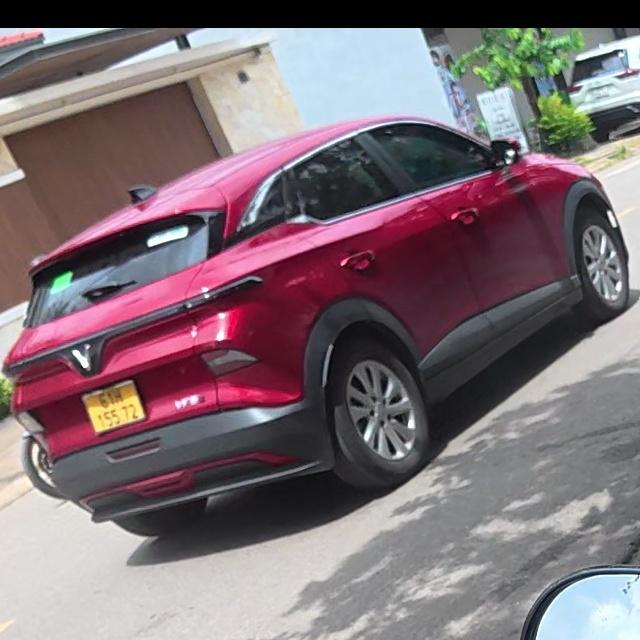license-plate: (81, 381, 146, 435)
